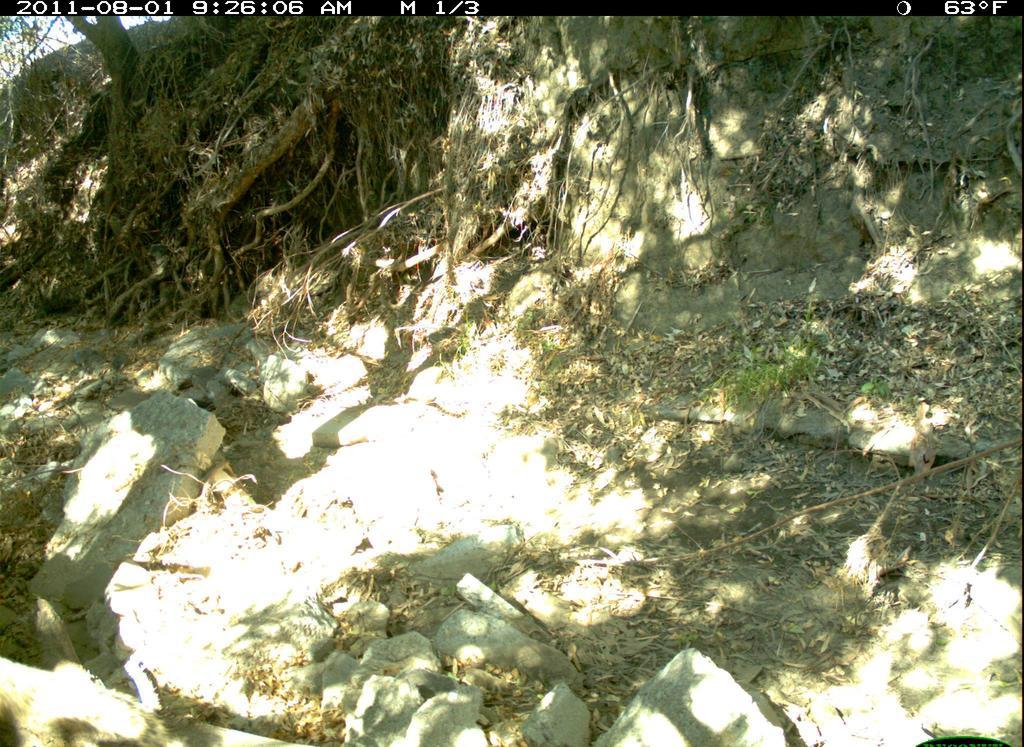squirrel: (1, 629, 182, 747)
